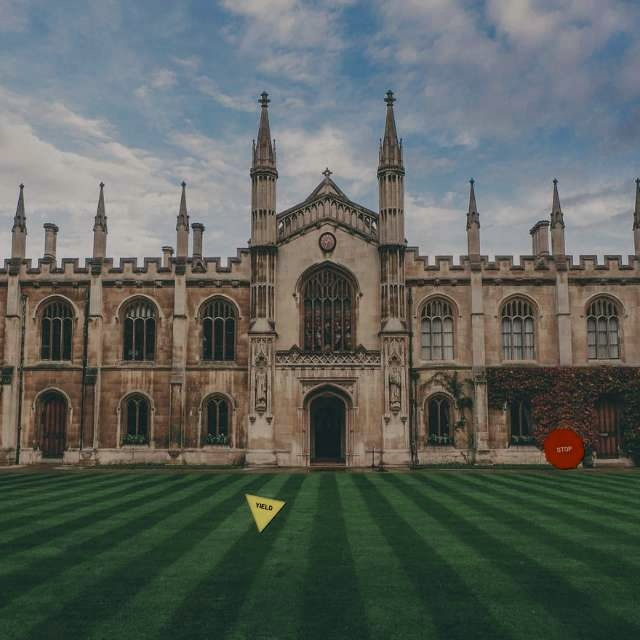STOP: (542, 428, 585, 470)
YIELD: (244, 493, 287, 534)
